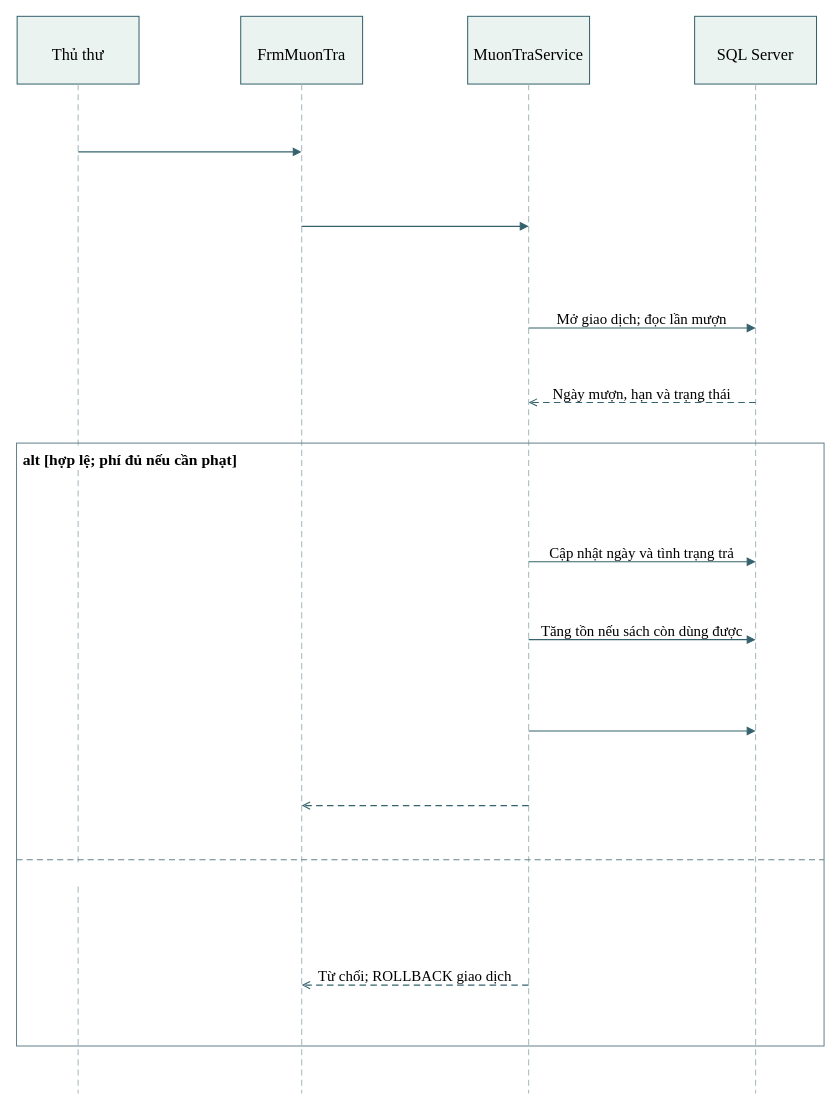
Image size: 840x1110. Some labels were removed from this diagram. The box of each missing label's shape, as (x1, y1, x2, y2) in pixels:
[không hợp lệ / lỗi ghi]: (23, 862, 172, 884)
Chọn sách; xác nhận trả: (116, 129, 263, 150)
Kết quả thành công: (355, 783, 475, 804)
Thêm phiếu phạt nếu có; COMMIT: (566, 691, 717, 729)
TraSach(...): (377, 203, 452, 225)
